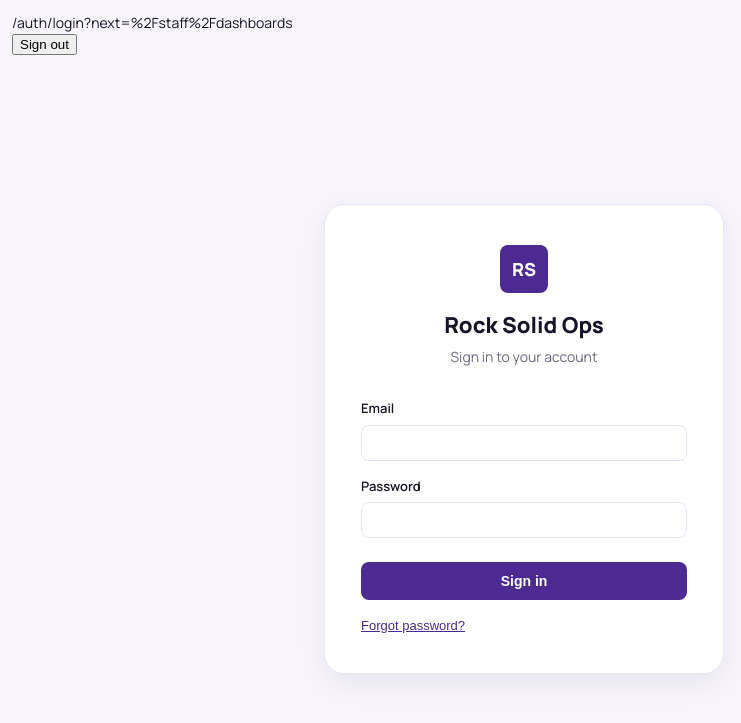
first-login race › a teacher who signs in and targets an admin route gets the unauthorized message on the first attempt
The image size is (741, 723).
Step 1. Type "teacher@rso.test" into the field labelled "Email" → (524, 442), box [361,424,687,460]
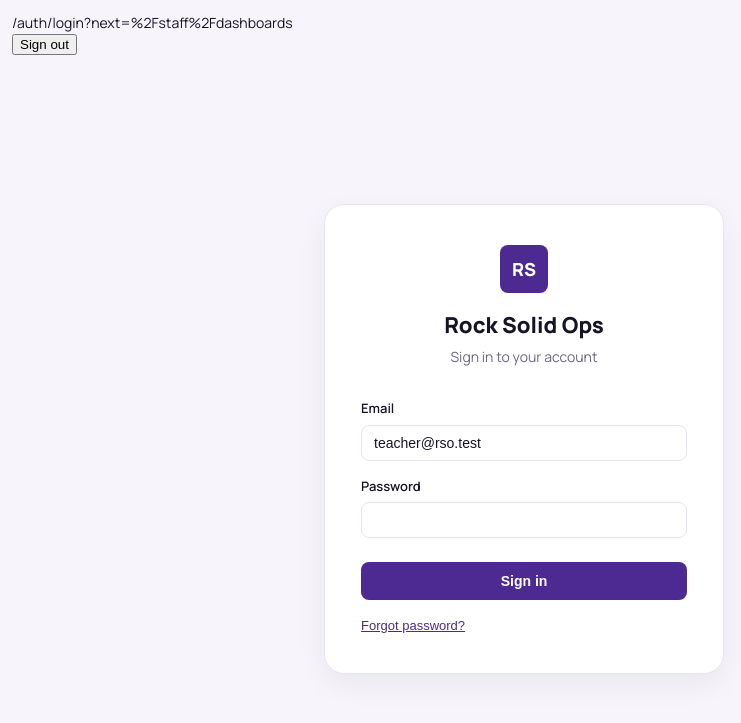
Step 2. Type "teacher-pass" into the password field labelled "Password" → (524, 520), box [361,502,687,538]
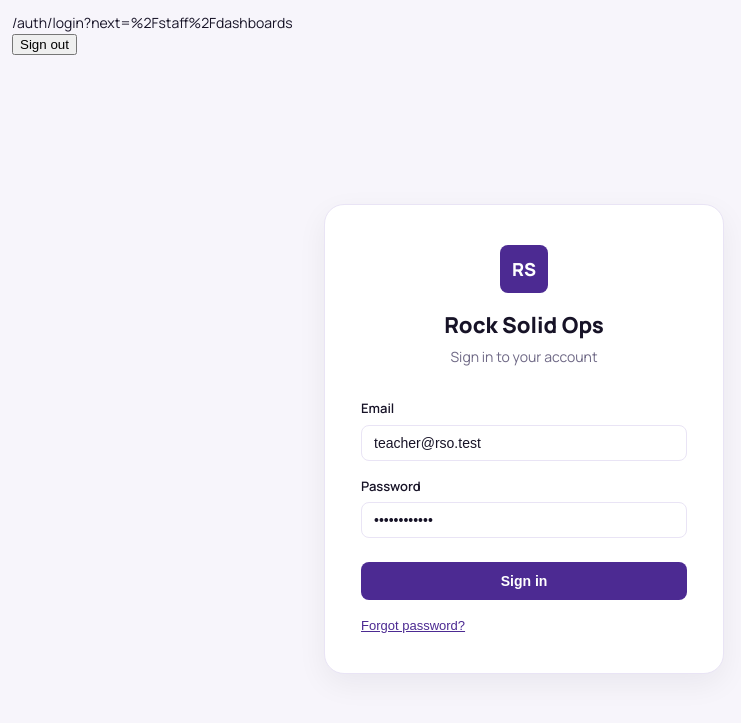
Step 3. Click the button "Sign in" → (524, 581), box [361,562,687,600]
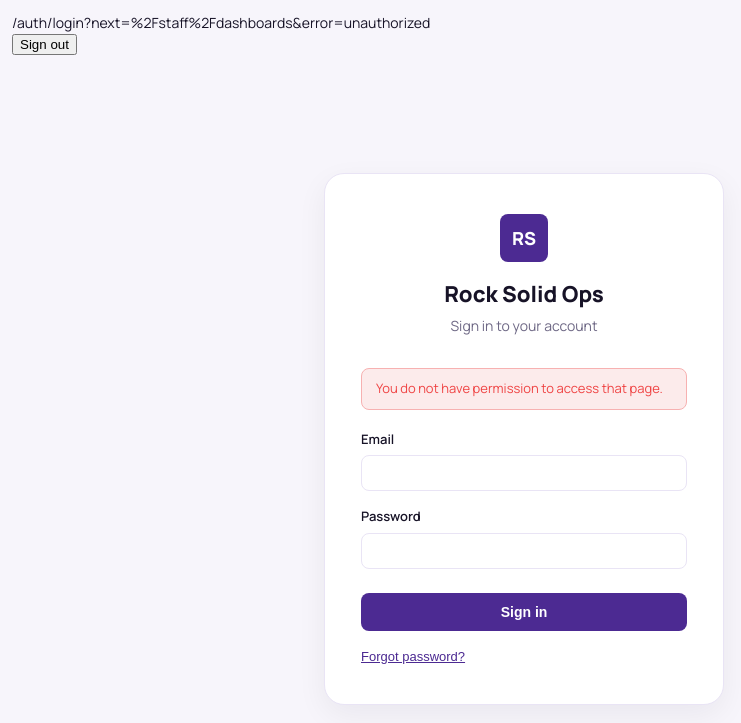
Expected: the text "You do not have permission to access that page." is shown, [361,368,687,410]
